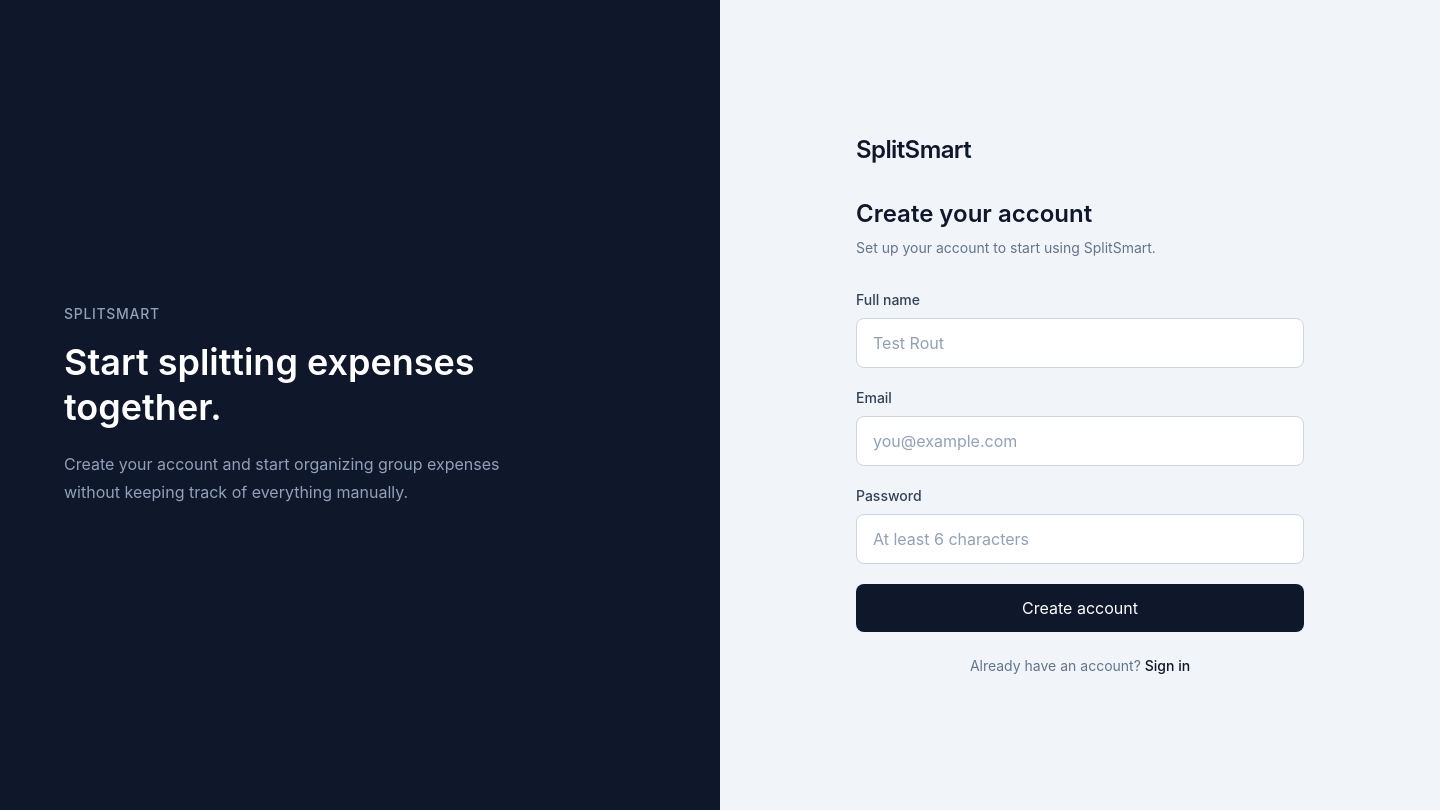
Test: Register Component › displays error message on registration failure
In the field labelled "Full name": (1080, 343) left=856, top=318, right=1304, bottom=368, type "Test User"
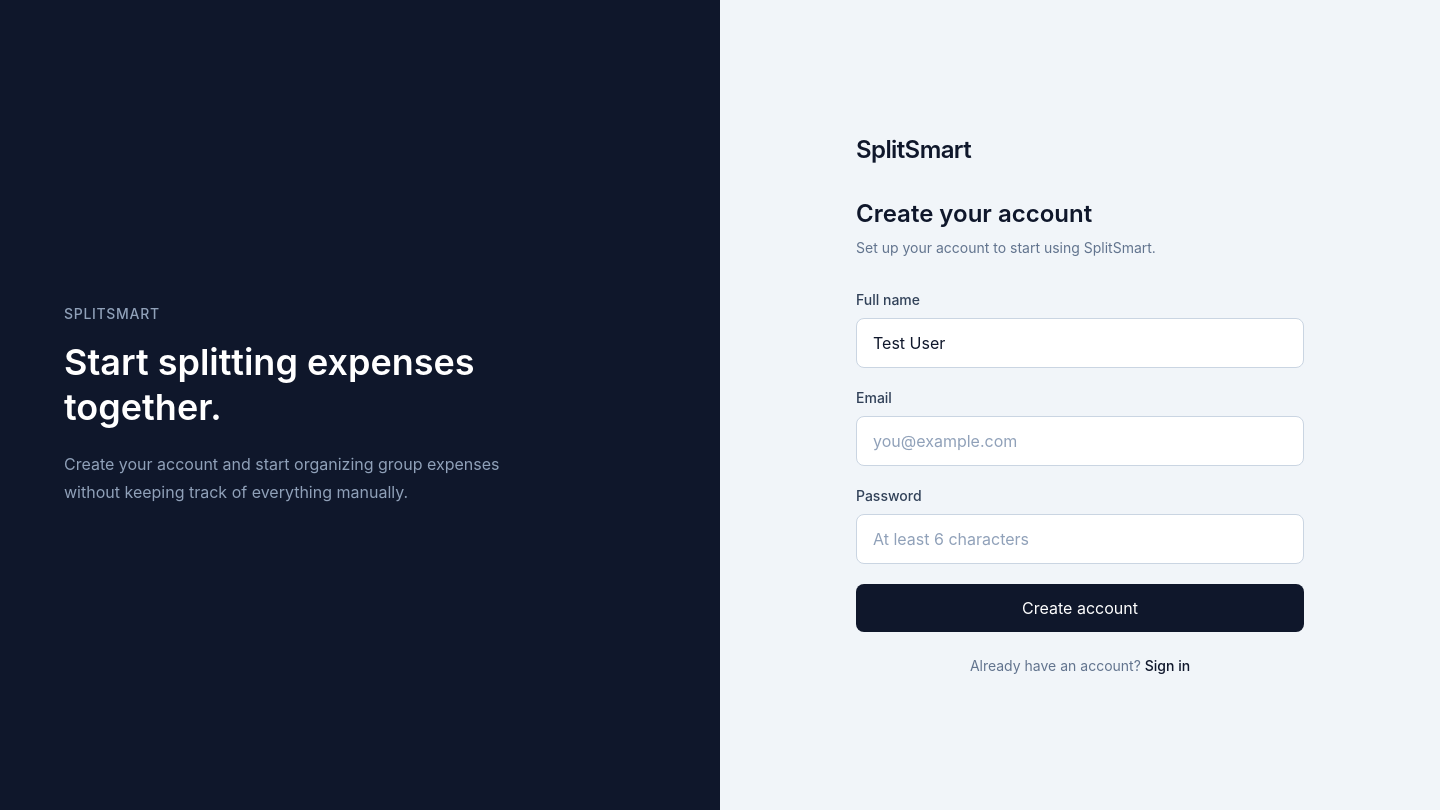
In the field labelled "Email": (1080, 441) left=856, top=416, right=1304, bottom=466, type "test@example.com"
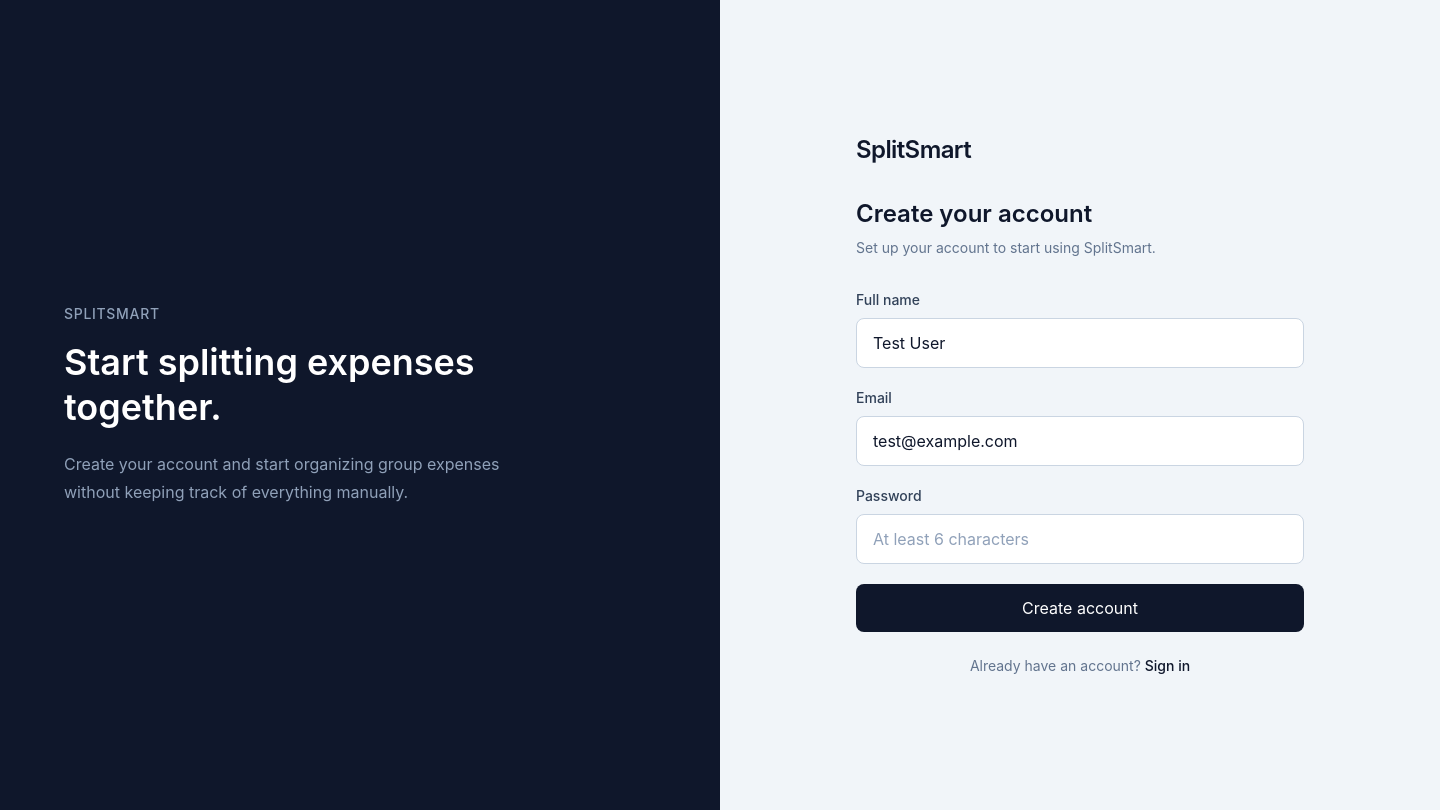
In the password field labelled "Password": (1080, 539) left=856, top=514, right=1304, bottom=564, type "password123"
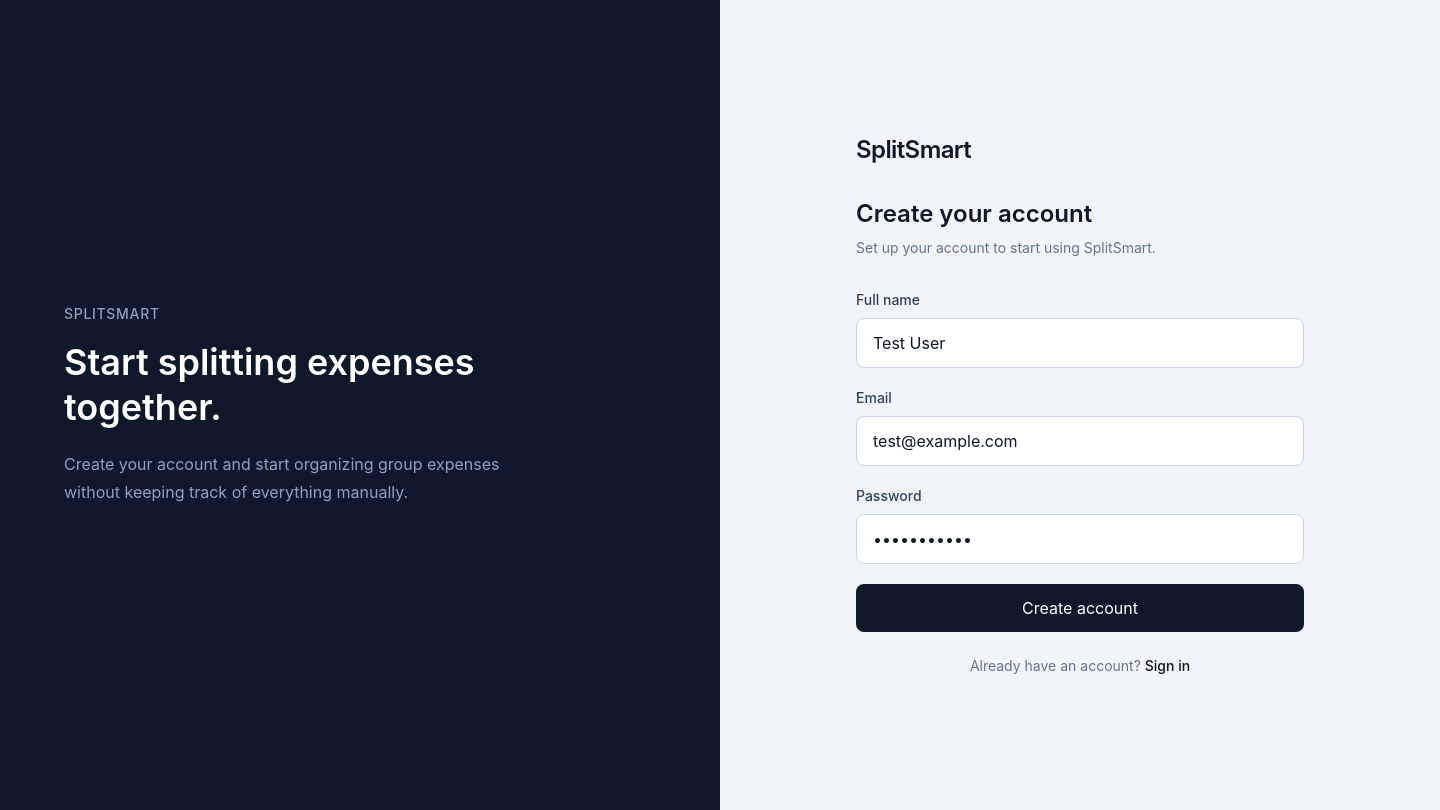
Click the button "Create account": (1080, 608) left=856, top=584, right=1304, bottom=632
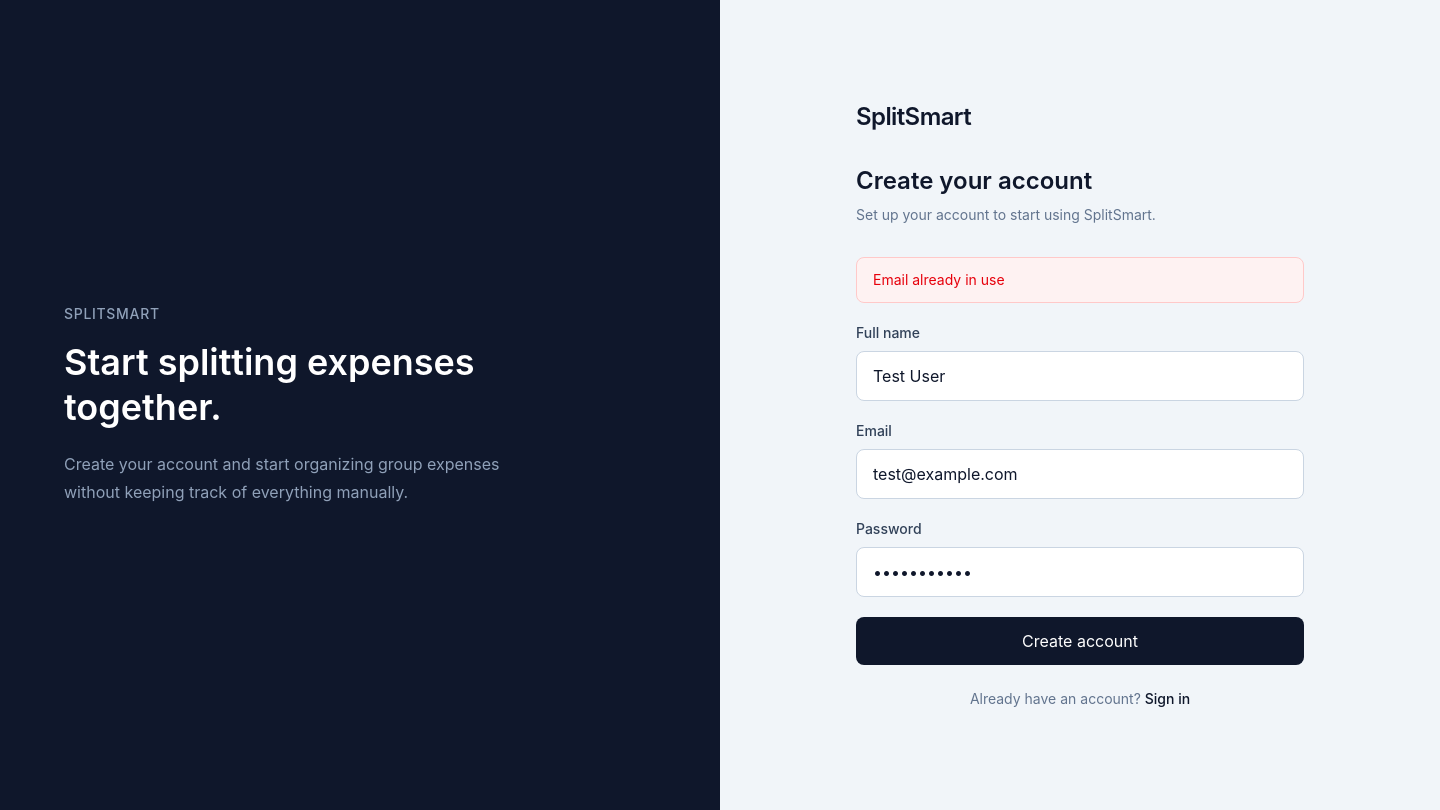
Expected: the text "Email already in use" is shown, left=873, top=271, right=1005, bottom=288
